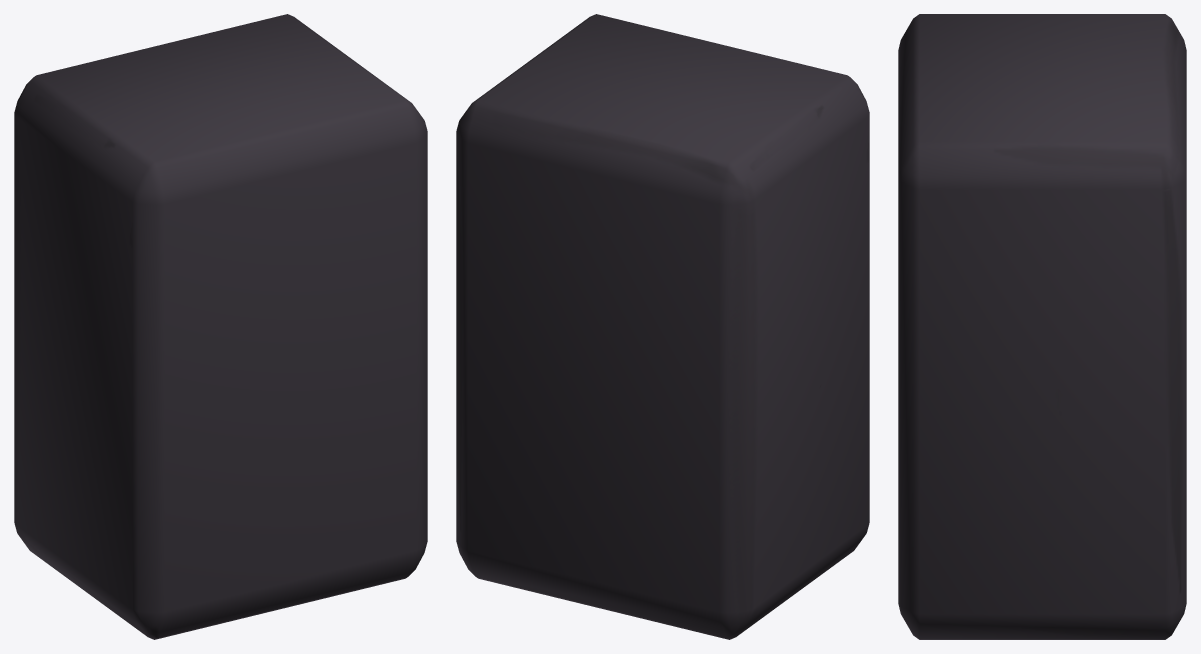
File: Pumpkin_Brick_5.fbx
3 renders of one model, left to right at view 1: azimuth 30°, elevation 25°; view 2: azimuth 150°, elevation 25°; view 3: azimuth 270°, elevation 25°, orthographic. The views are drawn at different scales.
Parts seen in each view (by area): view 1: Cube.006; view 2: Cube.006; view 3: Cube.006.
Part boxes in pixels (box(x1,y1,x2,y2)): Cube.006: box(14, 14, 427, 639); Cube.006: box(456, 14, 869, 639); Cube.006: box(898, 14, 1186, 639).
Bounding box in the file's own units: 77.09 × 119 × 62.72.
